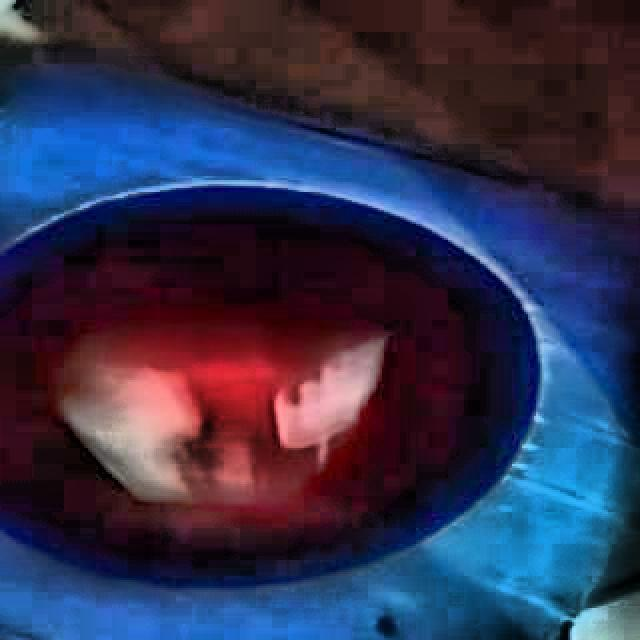metal: (57, 322, 381, 507)
